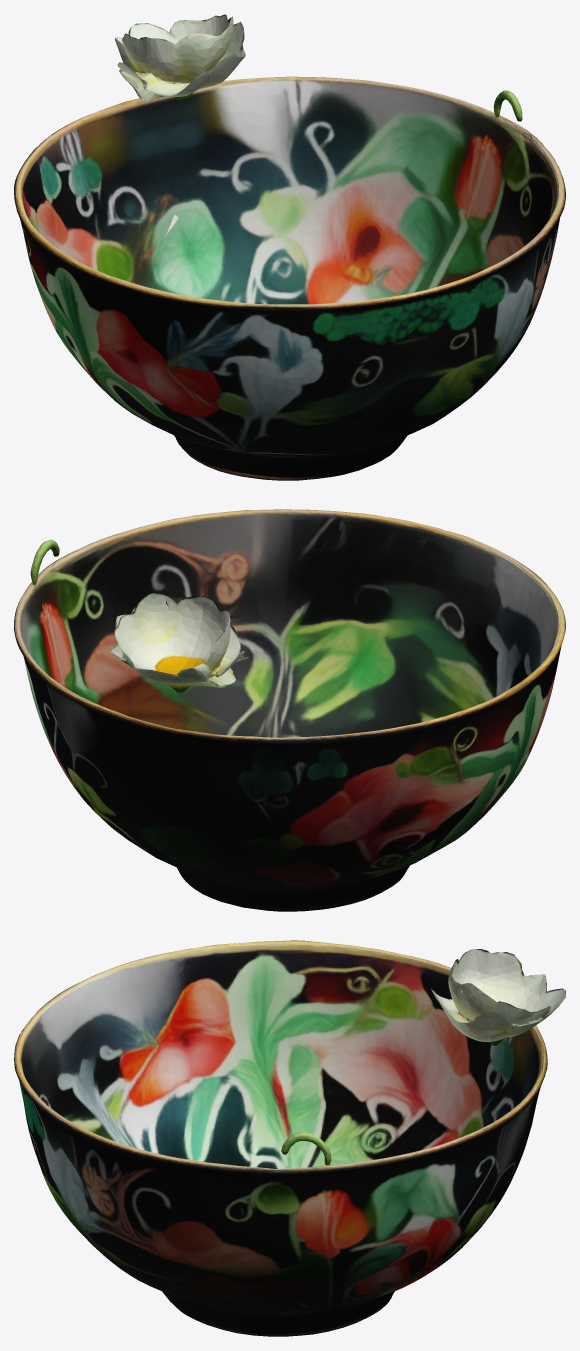
File: porcelain-soup-bowl-3d.jpeg.glb
3 renders of one model, top to bottom at view 1: azimuth 30°, elevation 25°; view 2: azimuth 150°, elevation 25°; view 3: azimuth 270°, elevation 25°, orthographic. The views are drawn at different scales.
Parts seen in each view (by area): view 1: world; view 2: world; view 3: world.
Part boxes in pixels (x1,y1,x2,y2): world: (14, 14, 565, 480); world: (14, 509, 565, 911); world: (14, 940, 565, 1336).
Bounding box in the file's own units: 0.982 × 0.6529 × 0.9993.
1 material, 1 textured.
